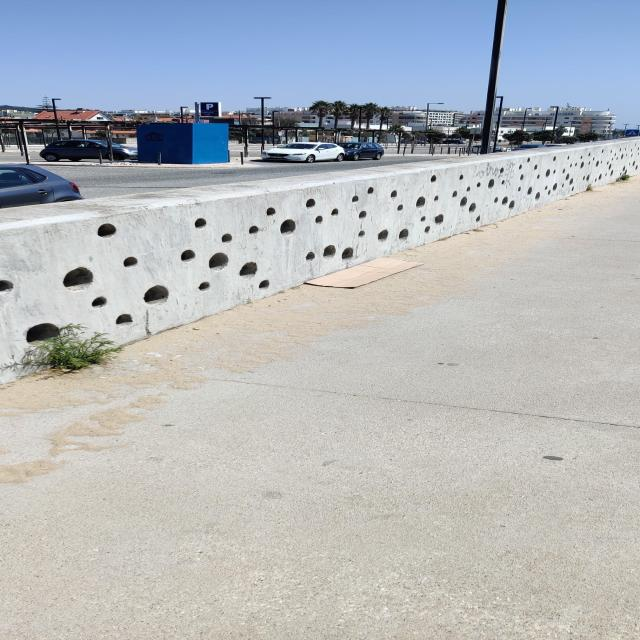Corrugated carton: (305, 257, 426, 287)
